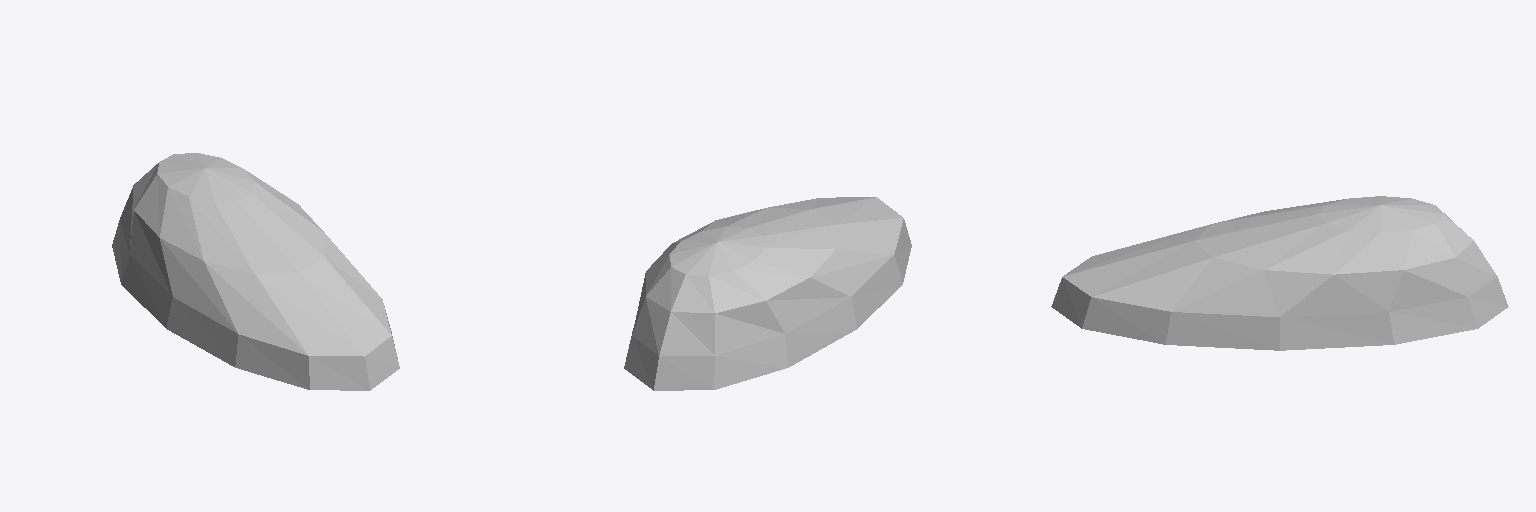
Rendered from dummyfoot.obj.
3 renders of one model, left to right at view 1: azimuth 30°, elevation 25°; view 2: azimuth 150°, elevation 25°; view 3: azimuth 270°, elevation 25°, orthographic.
Visible parts, largest first — view 1: dummy_hips3_dummy_lpelvis_dummy_lupleg_dummy_lknee_dummy_ll.001; view 2: dummy_hips3_dummy_lpelvis_dummy_lupleg_dummy_lknee_dummy_ll.001; view 3: dummy_hips3_dummy_lpelvis_dummy_lupleg_dummy_lknee_dummy_ll.001.
Boxes of the visible parts, box(x1,y1,x2,y2) form: dummy_hips3_dummy_lpelvis_dummy_lupleg_dummy_lknee_dummy_ll.001: box(112, 153, 399, 390); dummy_hips3_dummy_lpelvis_dummy_lupleg_dummy_lknee_dummy_ll.001: box(624, 197, 911, 390); dummy_hips3_dummy_lpelvis_dummy_lupleg_dummy_lknee_dummy_ll.001: box(1051, 196, 1508, 350).
Size of the model in its own units: 12.69 by 6.86 by 27.95.